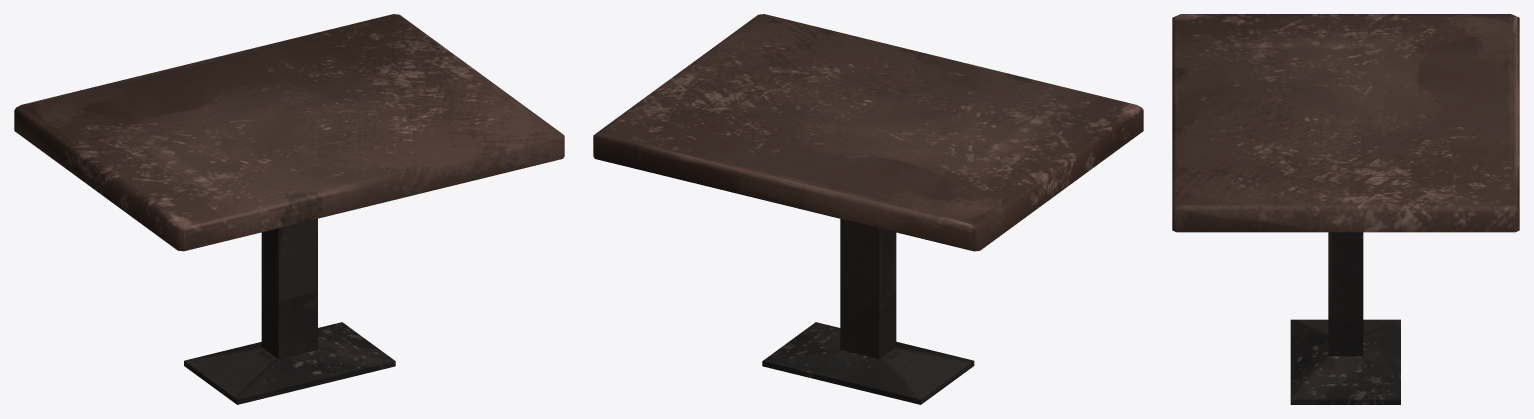
The model's file is Table_Asset.fbx.
The picture shows the model from 3 angles, left to right: view 1: azimuth 30°, elevation 25°; view 2: azimuth 150°, elevation 25°; view 3: azimuth 270°, elevation 25°; orthographic projection. The views are drawn at different scales.
Parts seen in each view (by area): view 1: DiningTableTop, DiningTableLeg; view 2: DiningTableTop, DiningTableLeg; view 3: DiningTableTop, DiningTableLeg.
Part boxes in pixels (x1=…): DiningTableTop: x1=14, y1=14, x2=564, y2=251; DiningTableLeg: x1=184, y1=218, x2=395, y2=404; DiningTableTop: x1=593, y1=14, x2=1143, y2=251; DiningTableLeg: x1=762, y1=219, x2=974, y2=404; DiningTableTop: x1=1172, y1=14, x2=1519, y2=232; DiningTableLeg: x1=1290, y1=232, x2=1400, y2=404.
Size of the model in its own units: 117 by 88.12 by 71.4.
1 material, 1 textured.
